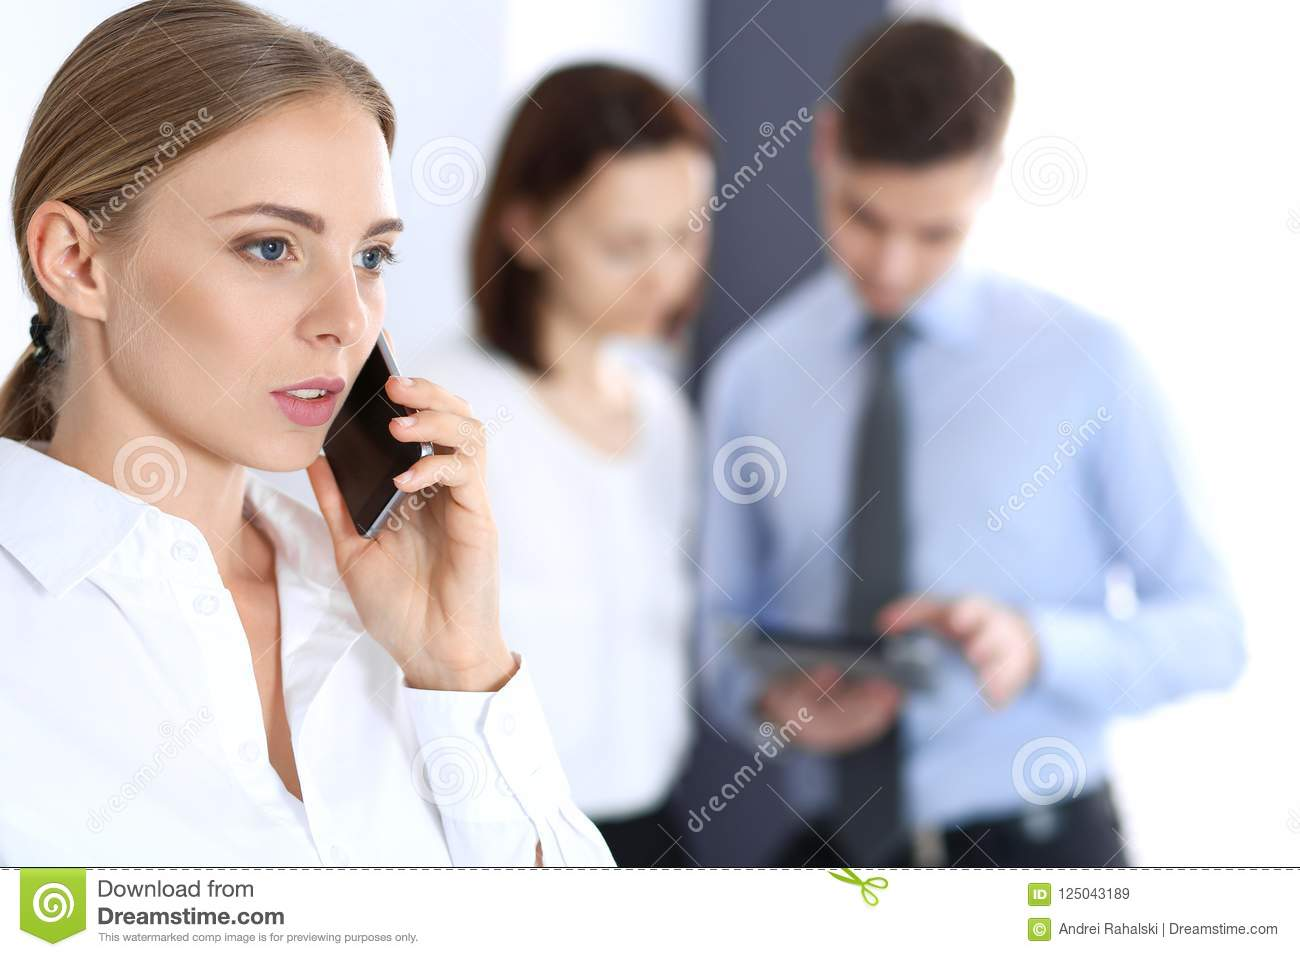phone: (320, 330, 435, 548)
talk: (182, 185, 506, 693)
